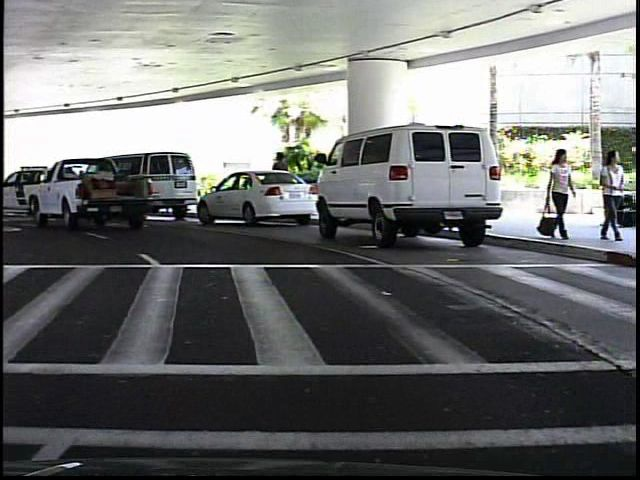person: (542, 144, 574, 240), (598, 146, 625, 243), (271, 149, 297, 213), (600, 155, 622, 230)
